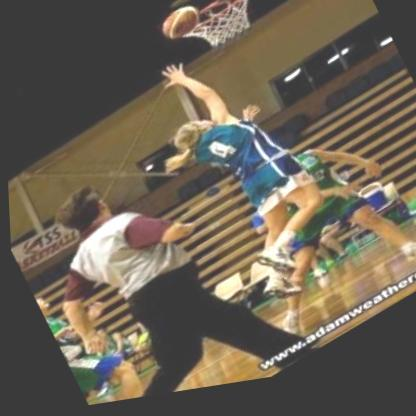basketball: (151, 1, 206, 55)
